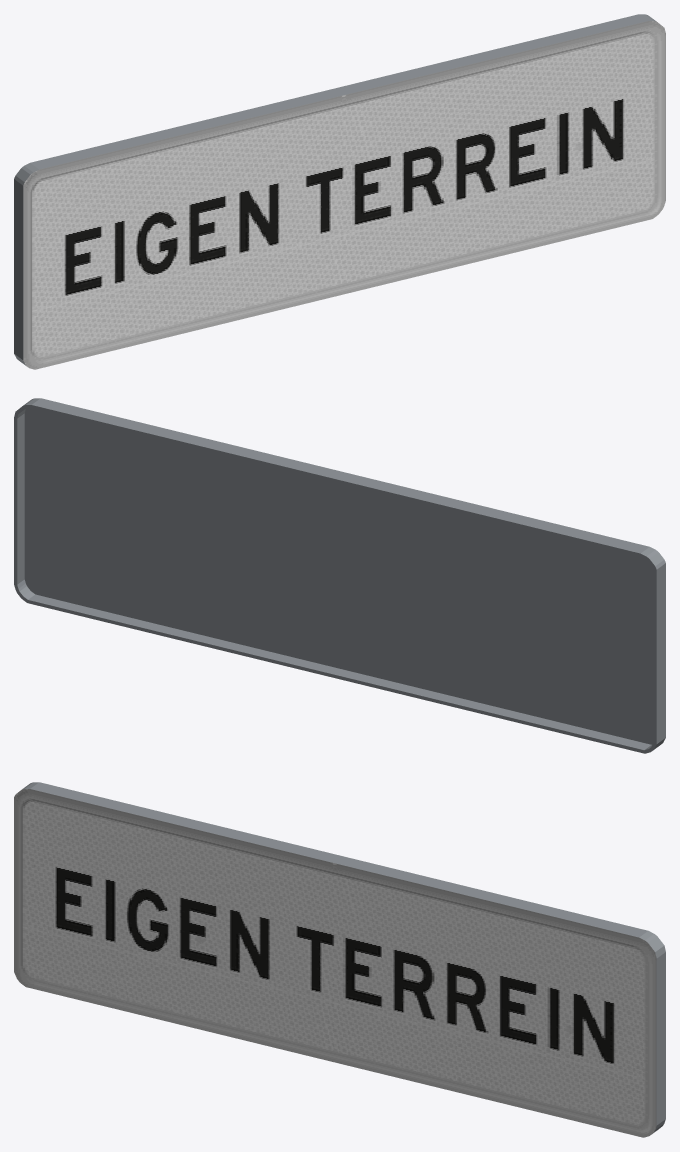
3 views of the same model, one above another, from view 1: azimuth 30°, elevation 25°; view 2: azimuth 150°, elevation 25°; view 3: azimuth 330°, elevation 25° (orthographic).
Visible parts, largest first — view 1: cat_f952165b2ea7820f; view 2: cat_f952165b2ea7820f; view 3: cat_f952165b2ea7820f.
Boxes of the visible parts, bbox=[...] form: cat_f952165b2ea7820f: bbox=[14, 14, 665, 369]; cat_f952165b2ea7820f: bbox=[14, 398, 665, 753]; cat_f952165b2ea7820f: bbox=[14, 782, 665, 1137].
Size of the model in its own units: 0.6 by 0.015 by 0.1777.
Materials: 2 (1 with a texture image).
